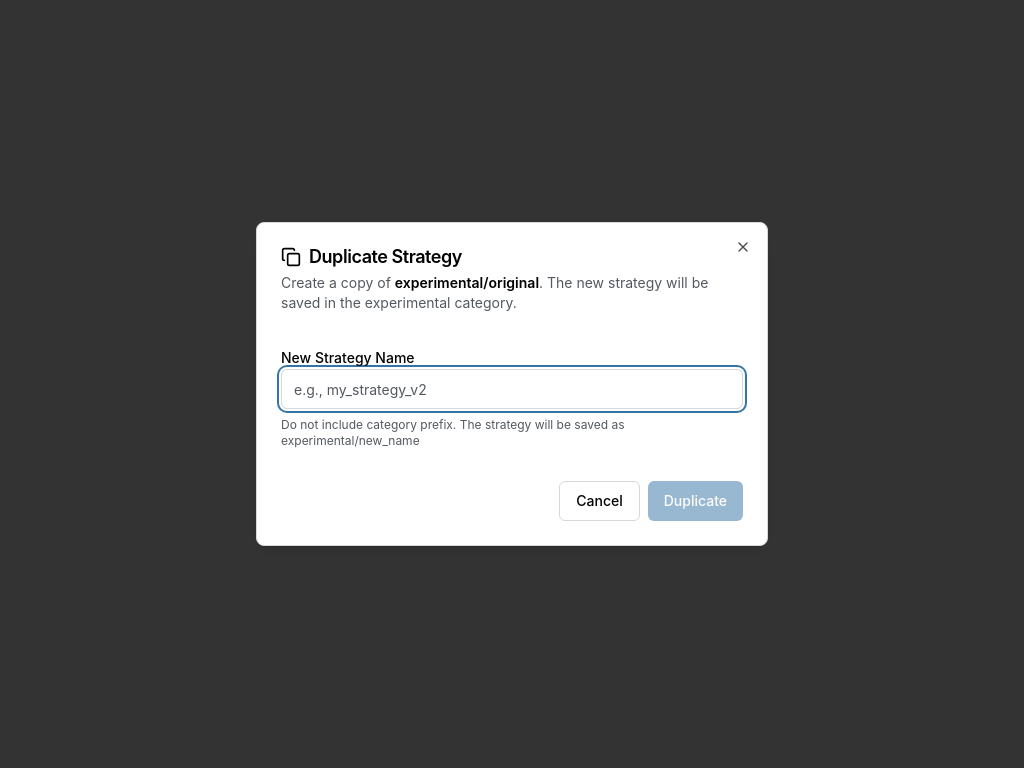
Test case: DuplicateDialog › resets input when canceled
Type "draft_name" into the field labelled "New Strategy Name" at (512, 389), box x1=281 y1=369 x2=743 y2=409
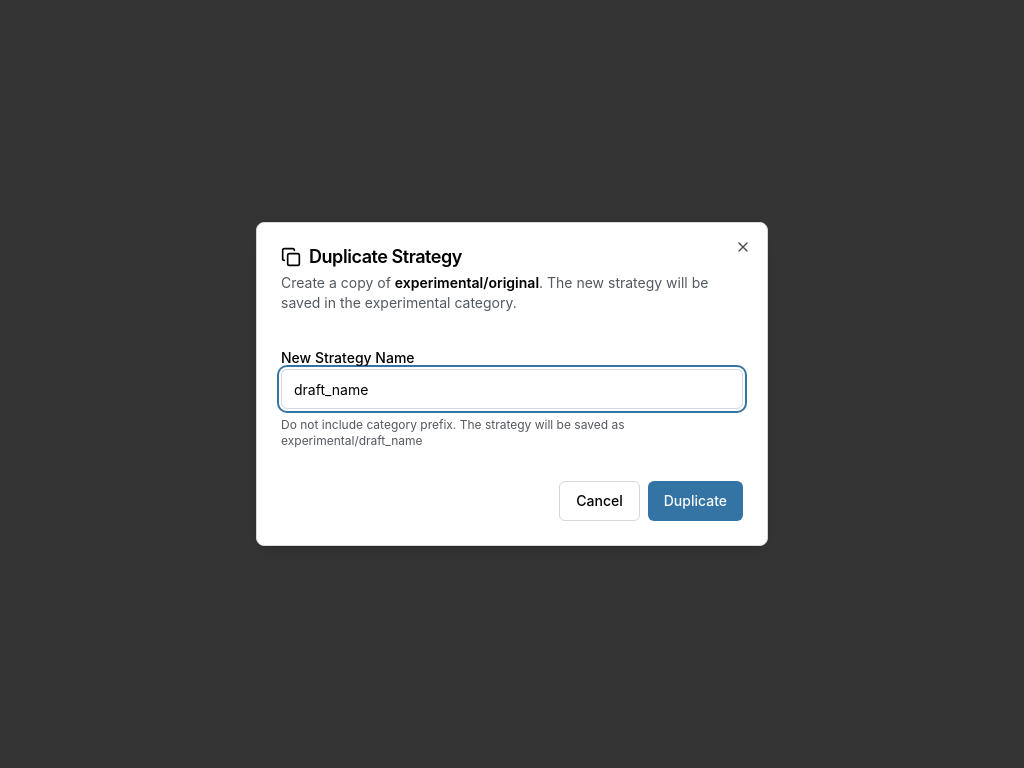
Click the button "Cancel" at (600, 501), box x1=559 y1=481 x2=640 y2=521
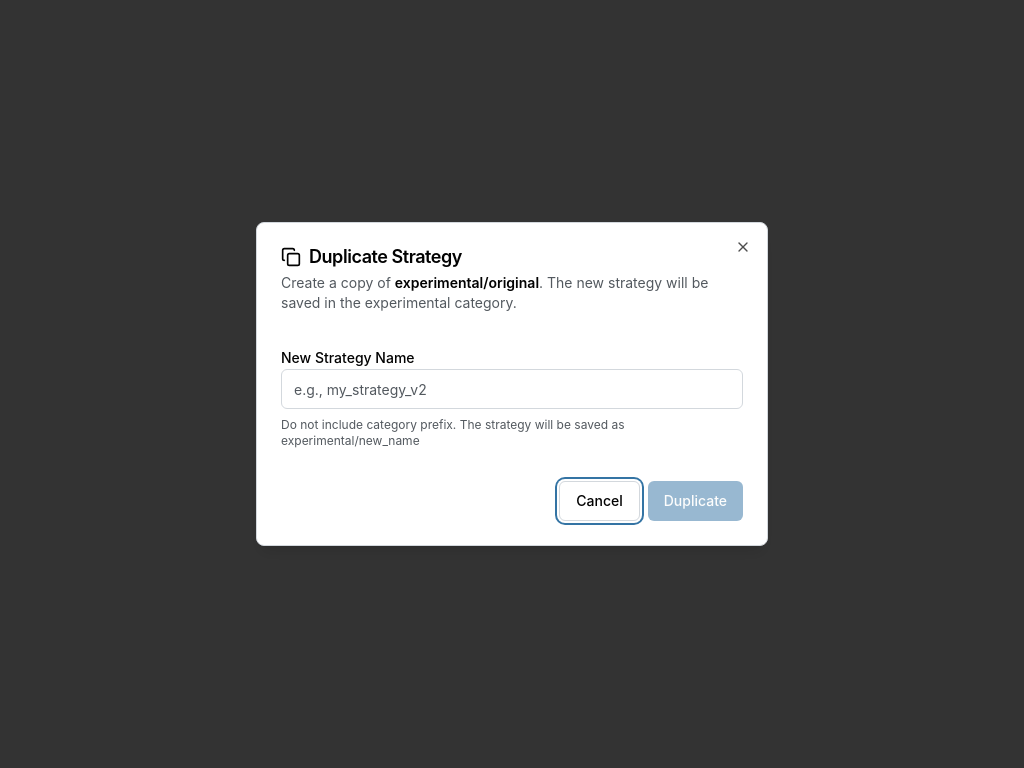
Check: the field labelled "New Strategy Name" is empty, box x1=281 y1=369 x2=743 y2=409
